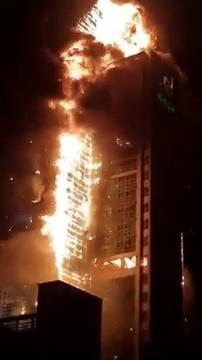fire: (58, 134, 92, 257), (90, 0, 152, 49)
